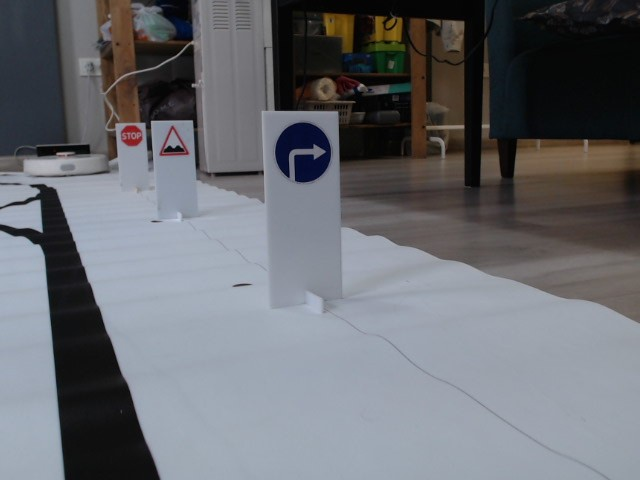Nerov: (159, 126, 188, 155)
Right: (274, 121, 332, 184)
Stop: (120, 124, 143, 147)
